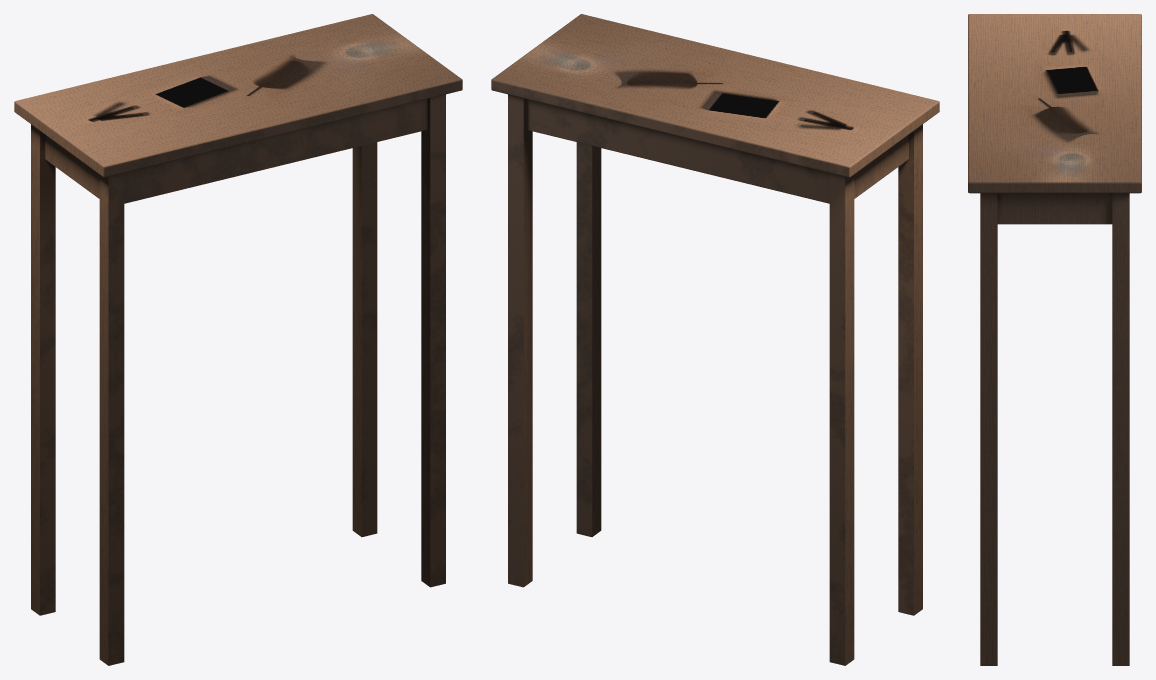
The model's file is 810_hook.glb.
3 views of the same model, side by side, from view 1: azimuth 30°, elevation 25°; view 2: azimuth 150°, elevation 25°; view 3: azimuth 270°, elevation 25° (orthographic). The views are drawn at different scales.
Parts seen in each view (by area): view 1: Table; view 2: Table; view 3: Table.
Boxes of the visible parts, x1=… form: Table: x1=14, y1=14, x2=462, y2=665; Table: x1=491, y1=14, x2=939, y2=665; Table: x1=968, y1=14, x2=1141, y2=665.
Size of what is drawn, in the model's own units: 2.3 by 3.1 by 1.
Materials: 1 (1 with a texture image).
